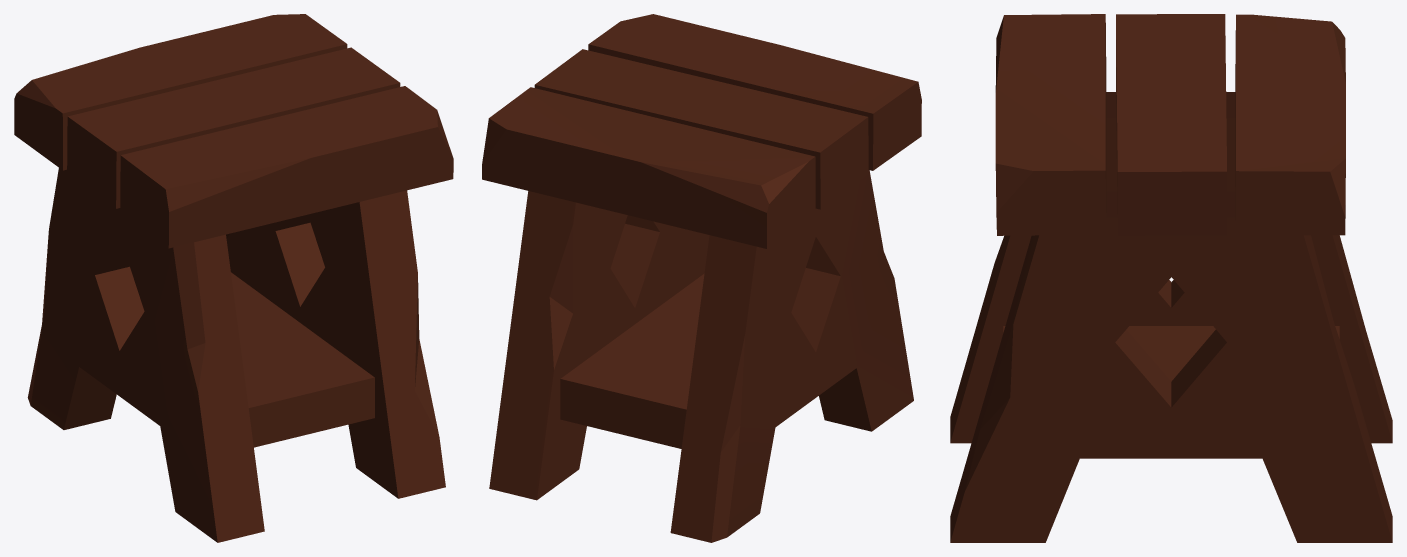
The model's file is Stool.fbx.
The picture shows the model from 3 angles, left to right: view 1: azimuth 30°, elevation 25°; view 2: azimuth 150°, elevation 25°; view 3: azimuth 270°, elevation 25°; orthographic projection. The views are drawn at different scales.
Visible parts, largest first — view 1: Stool; view 2: Stool; view 3: Stool.
Boxes of the visible parts, x1=… form: Stool: x1=14, y1=14, x2=453, y2=542; Stool: x1=482, y1=14, x2=921, y2=542; Stool: x1=950, y1=14, x2=1392, y2=542.
Bounding box in the file's own units: 14.68 × 16.9 × 17.48.
